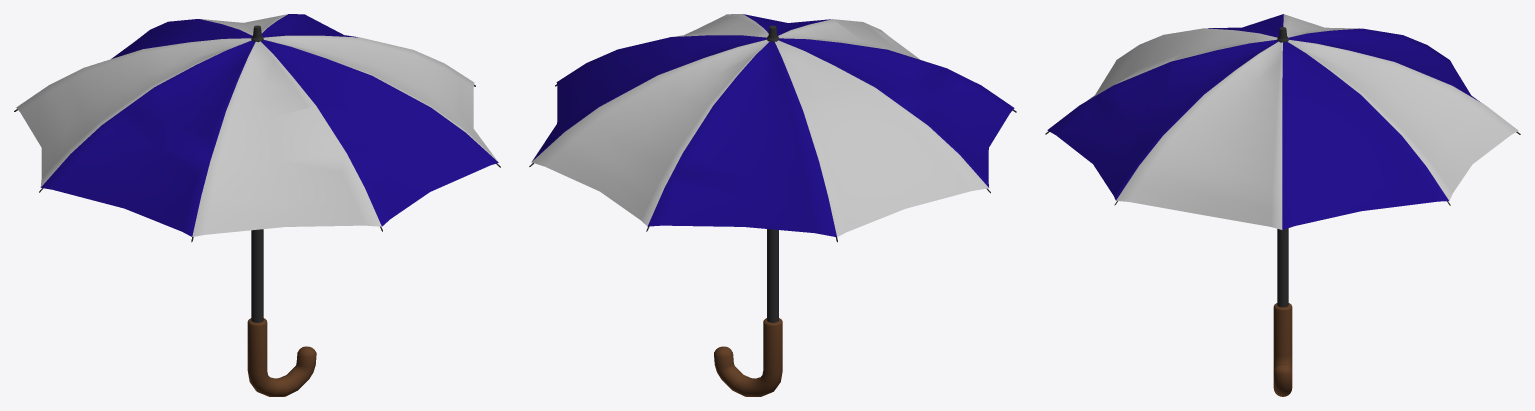
File: umbrellaB.glb
The picture shows the model from 3 angles, left to right: view 1: azimuth 30°, elevation 25°; view 2: azimuth 150°, elevation 25°; view 3: azimuth 270°, elevation 25°; orthographic projection. The views are drawn at different scales.
Parts seen in each view (by area): view 1: model; view 2: model; view 3: model.
Part boxes in pixels (x1,y1,x2,y2): model: (14, 14, 500, 396); model: (529, 14, 1016, 396); model: (1045, 14, 1520, 396).
Size of the model in its own units: 2.3 by 1.89 by 2.3.
